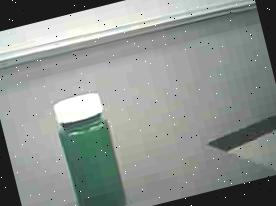Bottle C: (35, 76, 145, 206)
